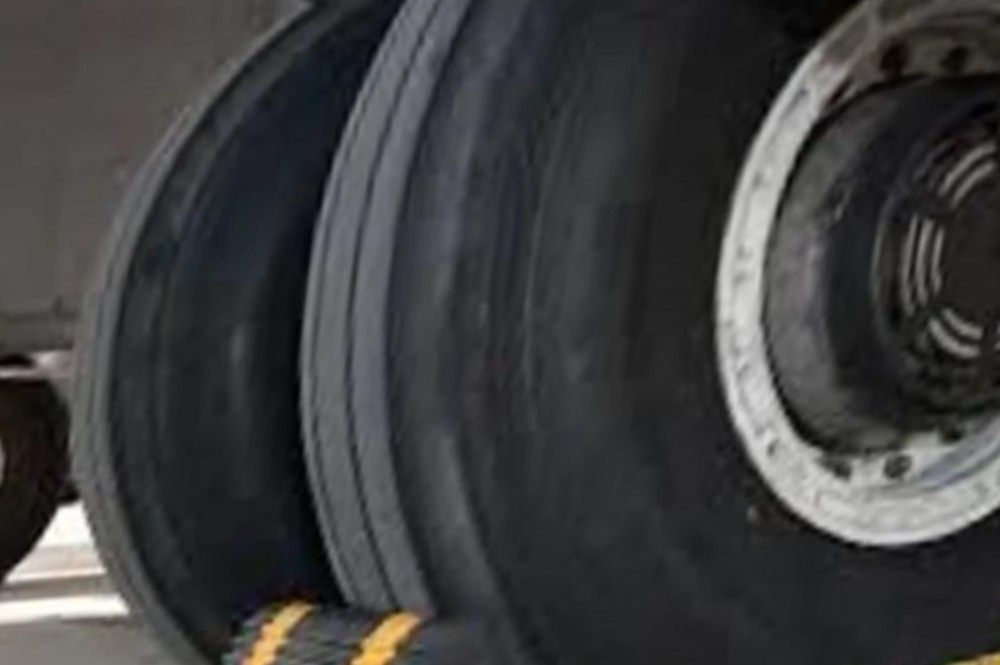chock: (104, 558, 665, 665)
wheel: (121, 0, 1000, 665), (0, 0, 535, 665), (0, 369, 106, 593)
